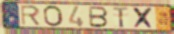4: (68, 5, 85, 28)
B: (88, 5, 109, 28)
O: (42, 5, 65, 28)
R: (20, 5, 42, 26)
T: (112, 6, 130, 29)
X: (132, 6, 156, 30)
